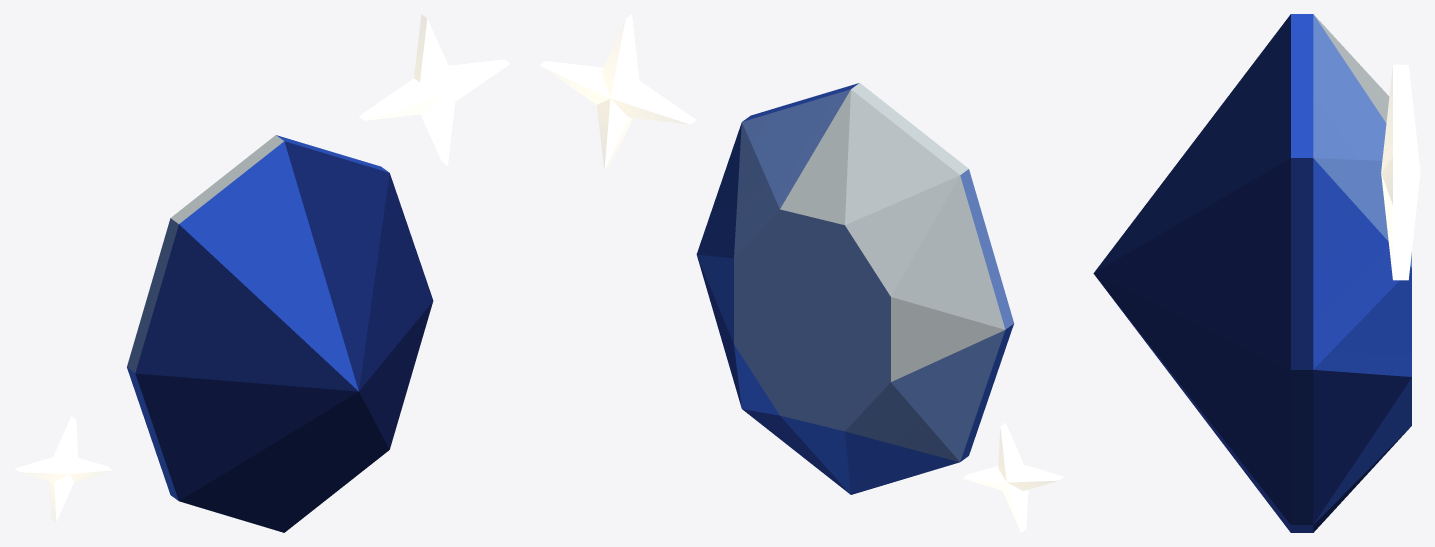
Rendered from gem_sapphire_low.glb.
3 views of the same model, side by side, from view 1: azimuth 30°, elevation 25°; view 2: azimuth 150°, elevation 25°; view 3: azimuth 270°, elevation 25° (orthographic). The views are drawn at different scales.
Size of the model in its own units: 0.269 by 0.2291 by 0.116.
